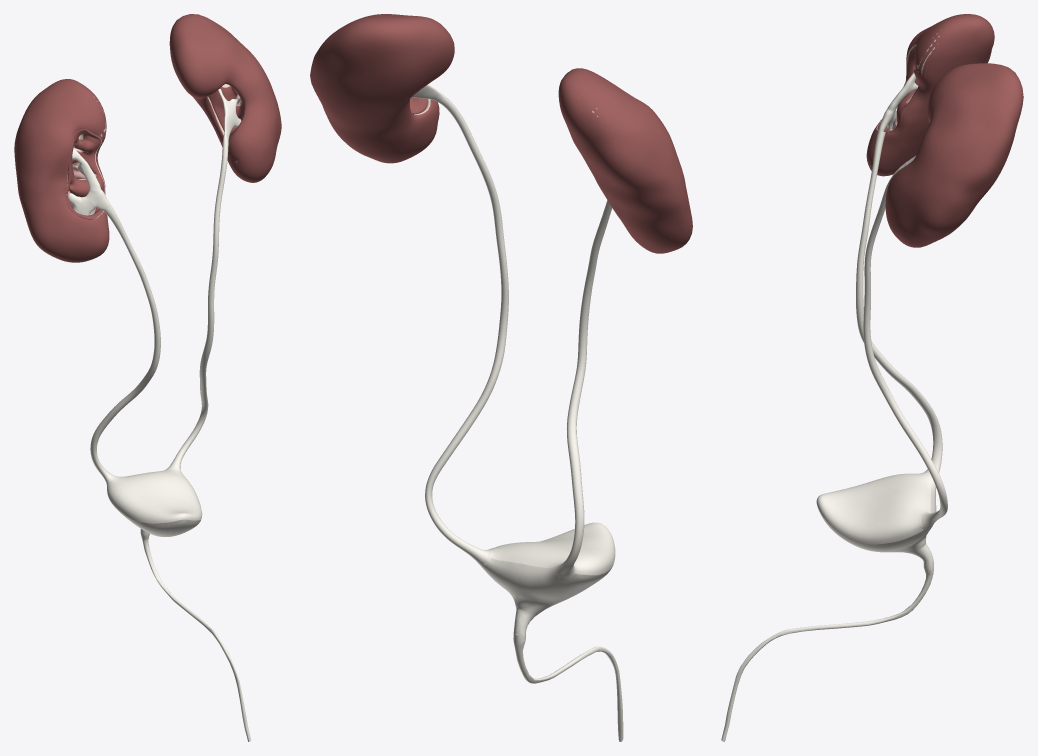
The model's file is urinary-meshopt.glb.
3 renders of one model, left to right at view 1: azimuth 30°, elevation 25°; view 2: azimuth 150°, elevation 25°; view 3: azimuth 270°, elevation 25°, orthographic. The views are drawn at different scales.
Parts seen in each view (by area): view 1: VH_M_kidney_capsule_R, VH_M_kidney_capsule_L, VH_M_fundus_of_urinary_bladder_dome, VH_M_ureter_L, VH_M_ureter_R, VH_M_hilum_of_kidney_R, VH_M_other_urethra, VH_M_fundus_of_urinary_bladder_base1, VH_M_hilum_of_kidney_L; view 2: VH_M_kidney_capsule_L, VH_M_kidney_capsule_R, VH_M_ureter_L, VH_M_fundus_of_urinary_bladder_dome, VH_M_ureter_R, VH_M_fundus_of_urinary_bladder_base1, VH_M_other_urethra; view 3: VH_M_kidney_capsule_L, VH_M_kidney_capsule_R, VH_M_fundus_of_urinary_bladder_dome, VH_M_ureter_L, VH_M_ureter_R, VH_M_other_urethra, VH_M_fundus_of_urinary_bladder_base1, VH_M_hilum_of_kidney_R.
Part boxes in pixels (x1,y1,x2,y2): VH_M_kidney_capsule_R: [14, 79, 109, 262]; VH_M_kidney_capsule_L: [169, 14, 281, 182]; VH_M_fundus_of_urinary_bladder_dome: [106, 468, 202, 523]; VH_M_ureter_L: [167, 133, 229, 471]; VH_M_ureter_R: [90, 206, 160, 481]; VH_M_hilum_of_kidney_R: [66, 129, 104, 219]; VH_M_other_urethra: [142, 539, 251, 741]; VH_M_fundus_of_urinary_bladder_base1: [110, 501, 200, 536]; VH_M_hilum_of_kidney_L: [208, 85, 244, 137]; VH_M_kidney_capsule_L: [310, 14, 454, 163]; VH_M_kidney_capsule_R: [558, 68, 692, 253]; VH_M_ureter_L: [425, 93, 508, 566]; VH_M_fundus_of_urinary_bladder_dome: [487, 522, 615, 575]; VH_M_ureter_R: [557, 200, 612, 575]; VH_M_fundus_of_urinary_bladder_base1: [482, 556, 613, 611]; VH_M_other_urethra: [515, 646, 623, 741]; VH_M_kidney_capsule_L: [885, 63, 1023, 247]; VH_M_kidney_capsule_R: [866, 14, 994, 176]; VH_M_fundus_of_urinary_bladder_dome: [816, 472, 932, 544]; VH_M_ureter_L: [863, 162, 947, 528]; VH_M_ureter_R: [856, 130, 942, 473]; VH_M_other_urethra: [721, 574, 933, 741]; VH_M_fundus_of_urinary_bladder_base1: [817, 478, 936, 552]; VH_M_hilum_of_kidney_R: [877, 46, 919, 133].
Bounding box in the file's own units: 0.2064 × 0.4654 × 0.1803.
